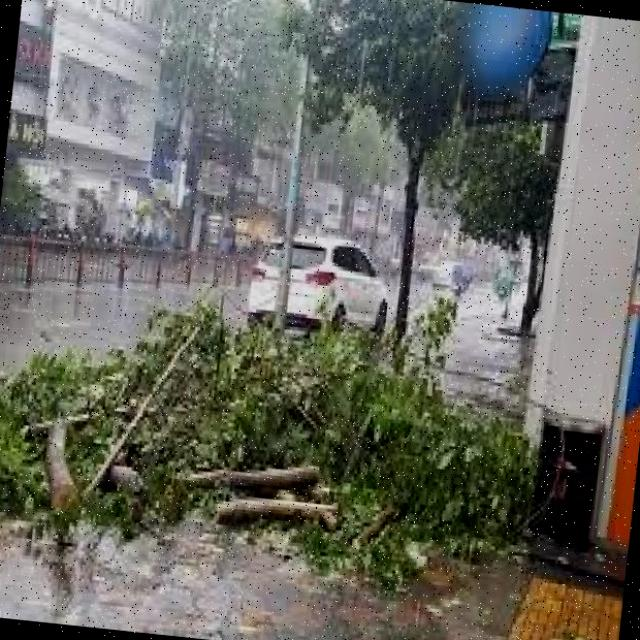fallen_object: (0, 269, 550, 610)
